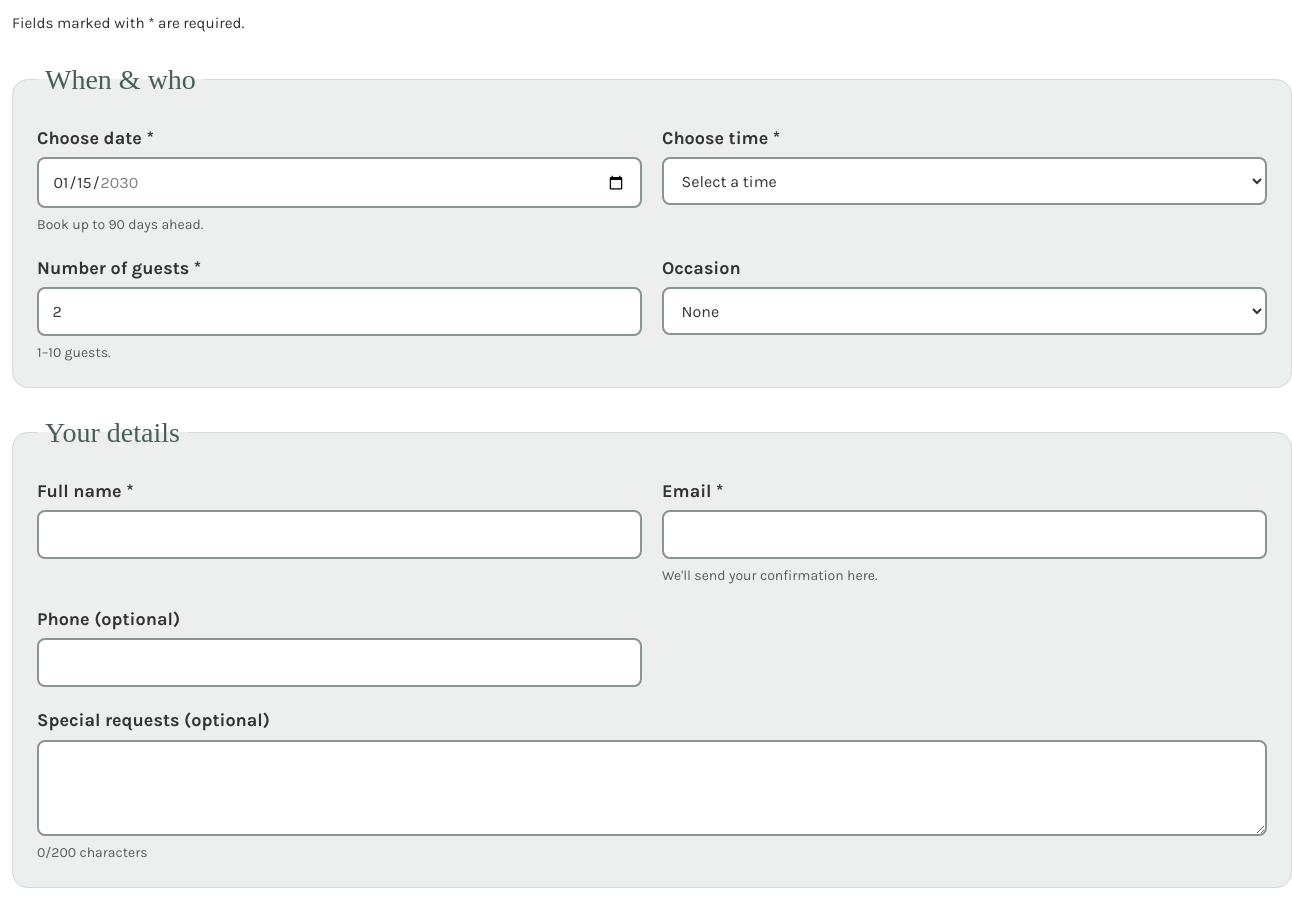
Test: BookingForm › shows a live character count for special requests
Type "Window seat" into the text box labelled "Special requests (optional)" at (652, 788), box [37,740,1267,836]
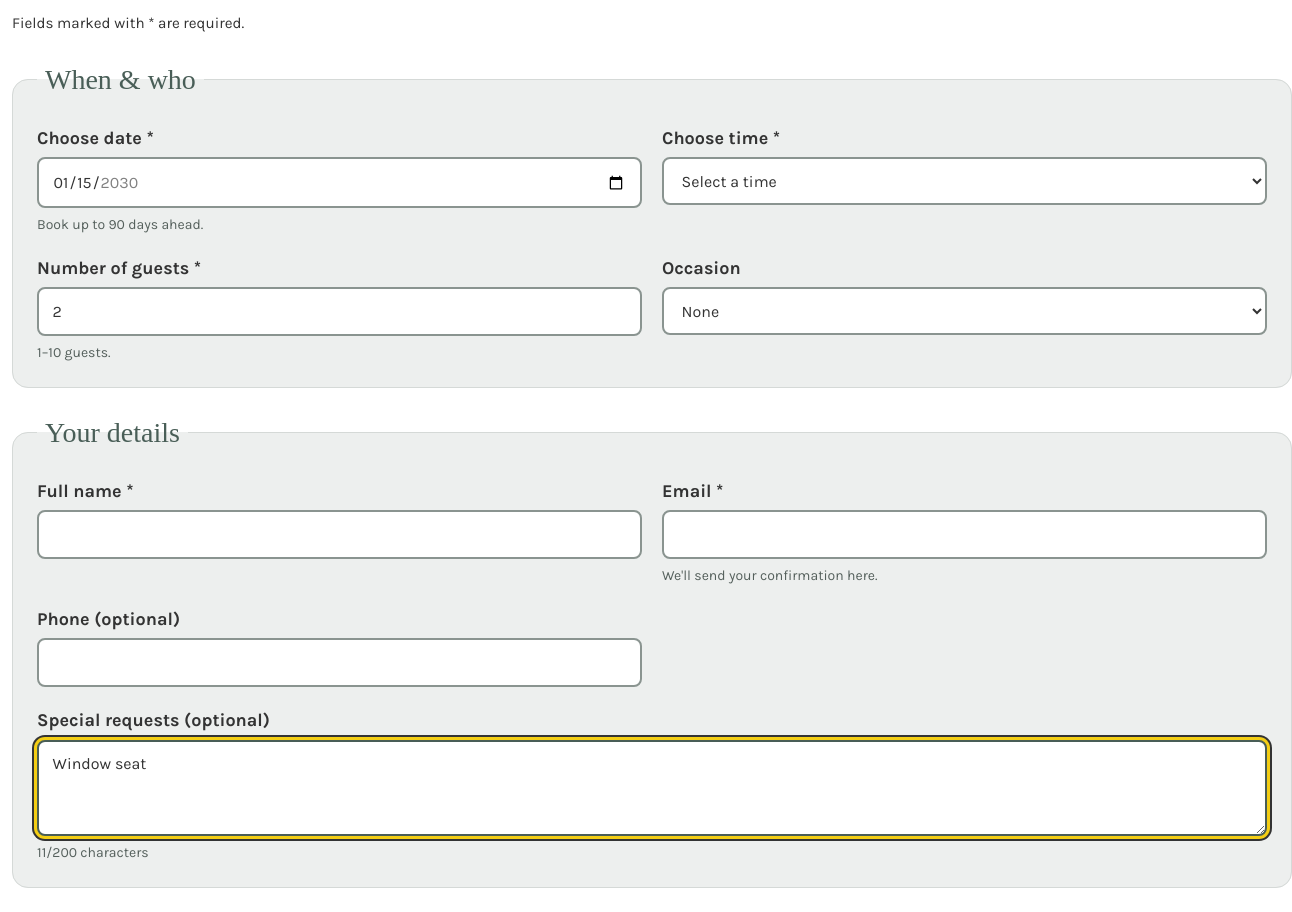
Expected: the text "11/200 characters" is shown, [37,844,149,861]
